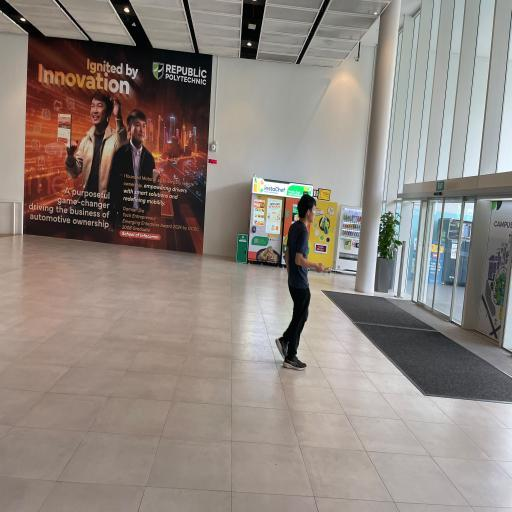person_right: (274, 195, 328, 373)
